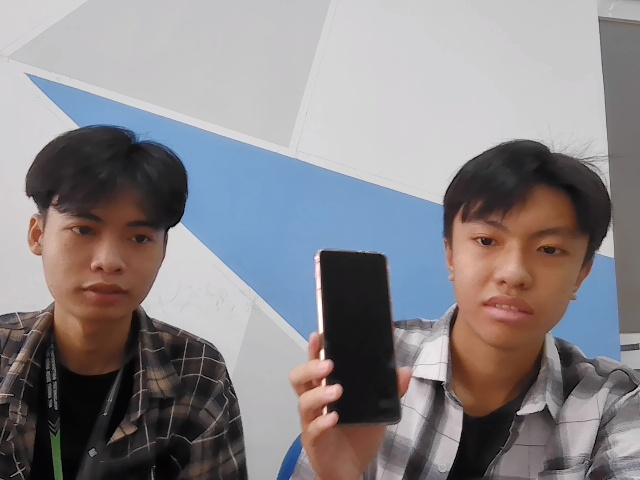human: (439, 126, 611, 346), (28, 121, 192, 327)
phone: (313, 245, 406, 427)
